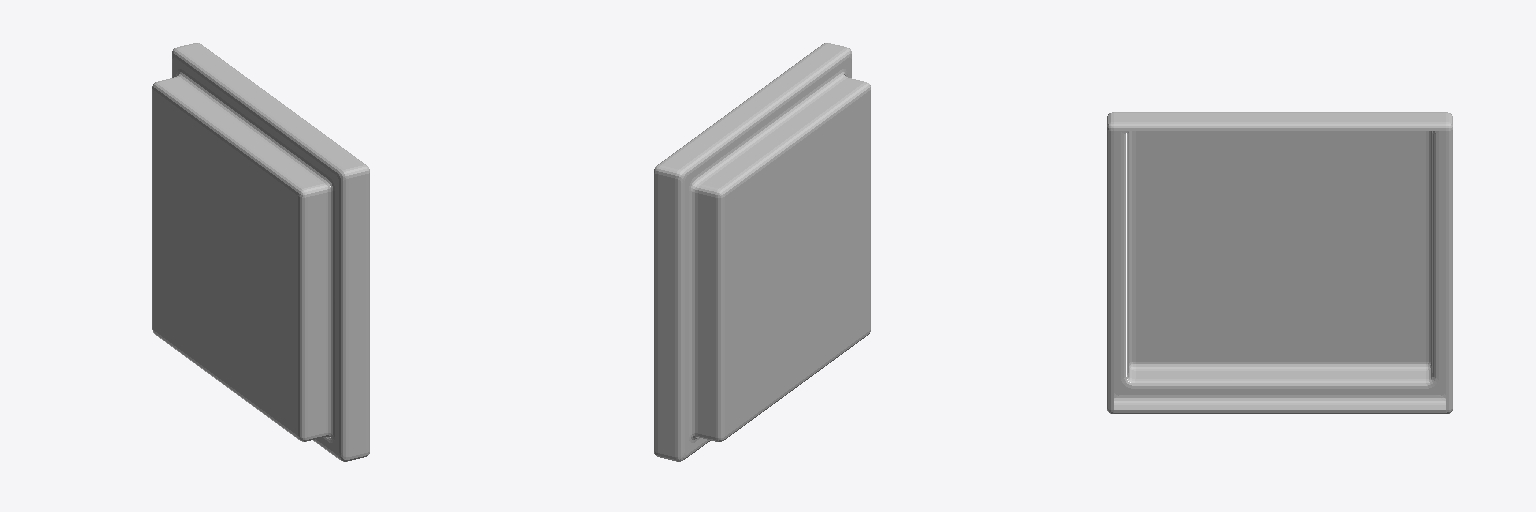
Rendered from CPU.obj.
3 renders of one model, left to right at view 1: azimuth 30°, elevation 25°; view 2: azimuth 150°, elevation 25°; view 3: azimuth 270°, elevation 25°, orthographic.
Parts seen in each view (by area): view 1: Rectangle019; view 2: Rectangle019; view 3: Rectangle019.
Part boxes in pixels (left/top/right/bottom): Rectangle019: left=152, top=43, right=369, bottom=461; Rectangle019: left=654, top=43, right=870, bottom=461; Rectangle019: left=1107, top=112, right=1452, bottom=413.
Size of the model in its own units: 0.9971 by 4.65 by 5.01.